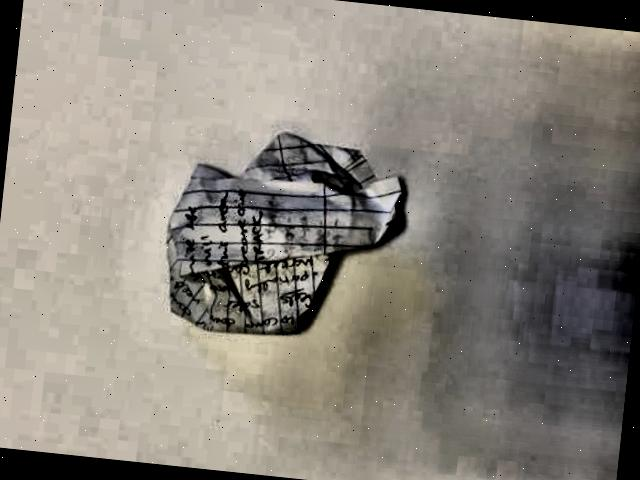Paper: (146, 112, 421, 364)
